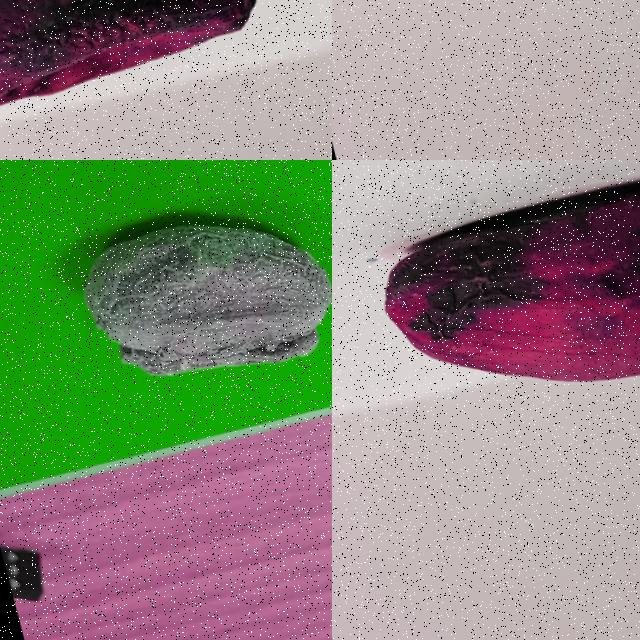Agglomerated_cocoabeans: (0, 160, 331, 462)
Fine_cocoabeans: (332, 160, 639, 441), (0, 0, 331, 159)
